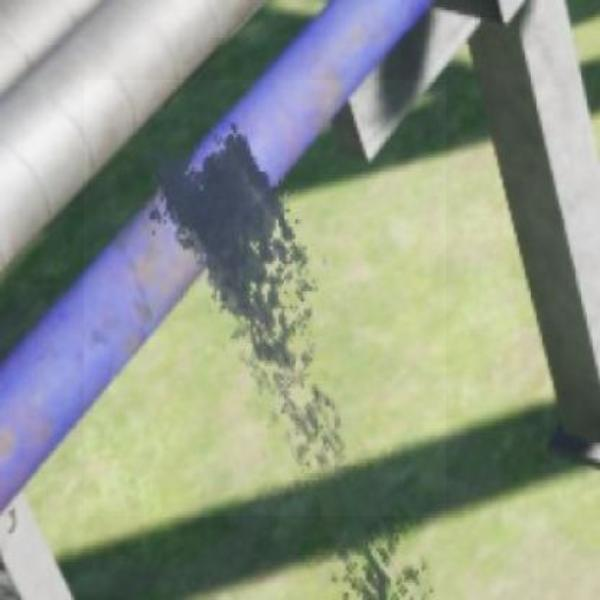gas: (84, 80, 446, 516)
